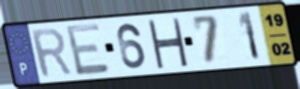1: (237, 9, 262, 64)
6: (115, 22, 148, 71)
7: (190, 13, 224, 67)
E: (63, 21, 112, 78)
H: (145, 18, 190, 69)
R: (28, 26, 75, 80)
